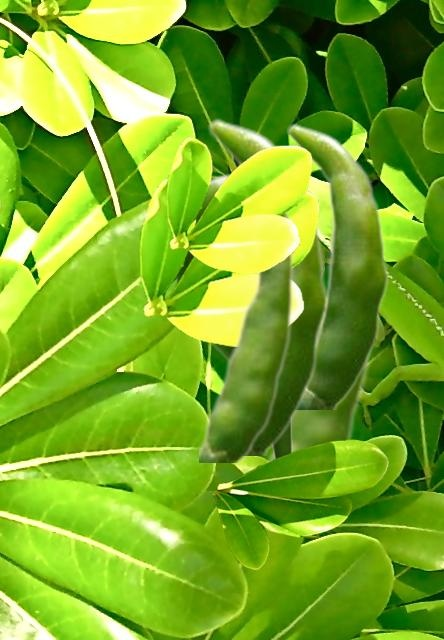green_chili: (207, 117, 329, 454), (286, 122, 389, 408), (261, 212, 373, 463), (199, 211, 294, 461), (173, 171, 231, 362), (273, 425, 292, 457)
